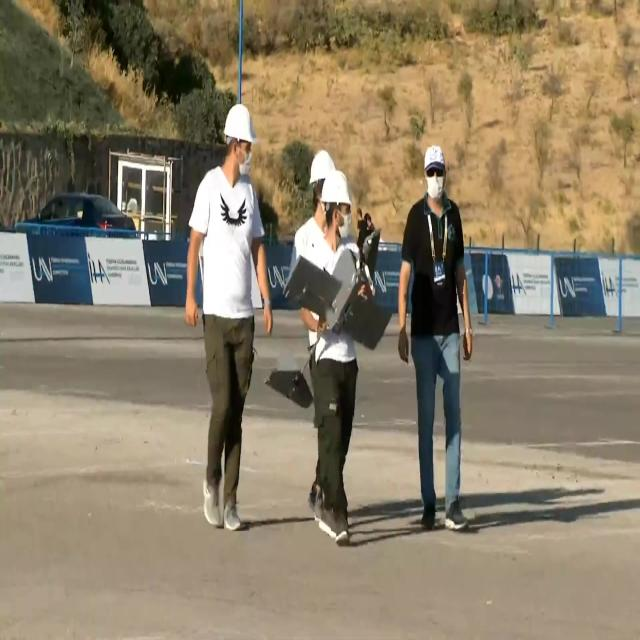iha: (257, 239, 388, 410)
